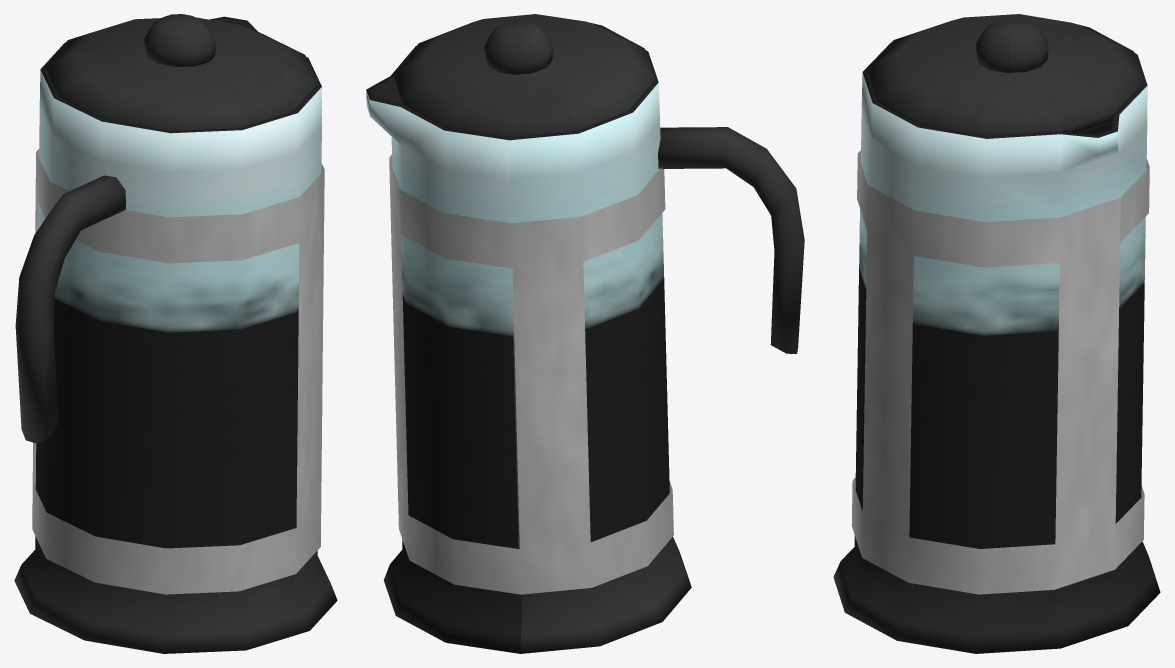
File: H_FrenchPress.fbx
3 views of the same model, side by side, from view 1: azimuth 30°, elevation 25°; view 2: azimuth 150°, elevation 25°; view 3: azimuth 270°, elevation 25° (orthographic).
Parts seen in each view (by area): view 1: FrenchPress; view 2: FrenchPress; view 3: FrenchPress.
Boxes of the visible parts, <box> form: FrenchPress: <box>14,14,337,653</box>; FrenchPress: <box>366,14,804,653</box>; FrenchPress: <box>833,14,1160,653</box>.
Size of the model in its own units: 24.76 by 38.41 by 20.07.
